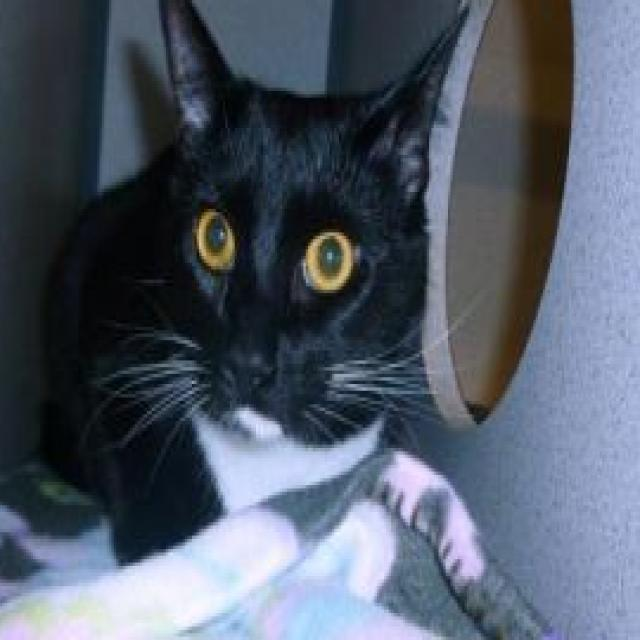Bombay: (38, 0, 472, 606)
